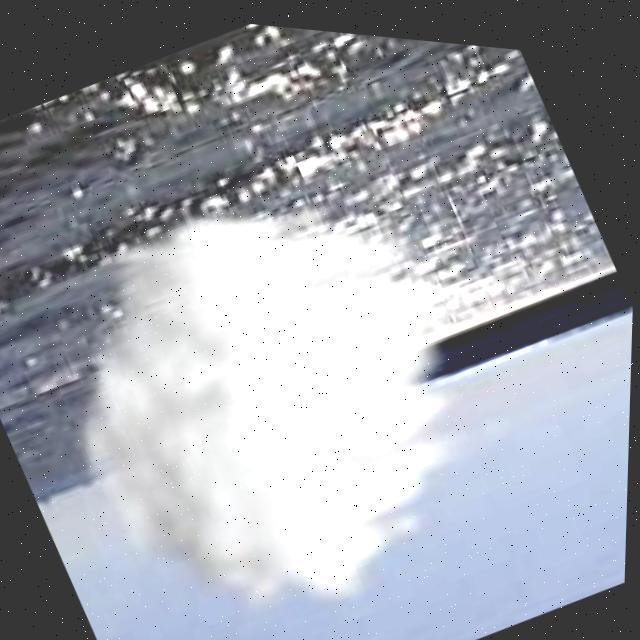Smoke: (0, 87, 591, 640)
